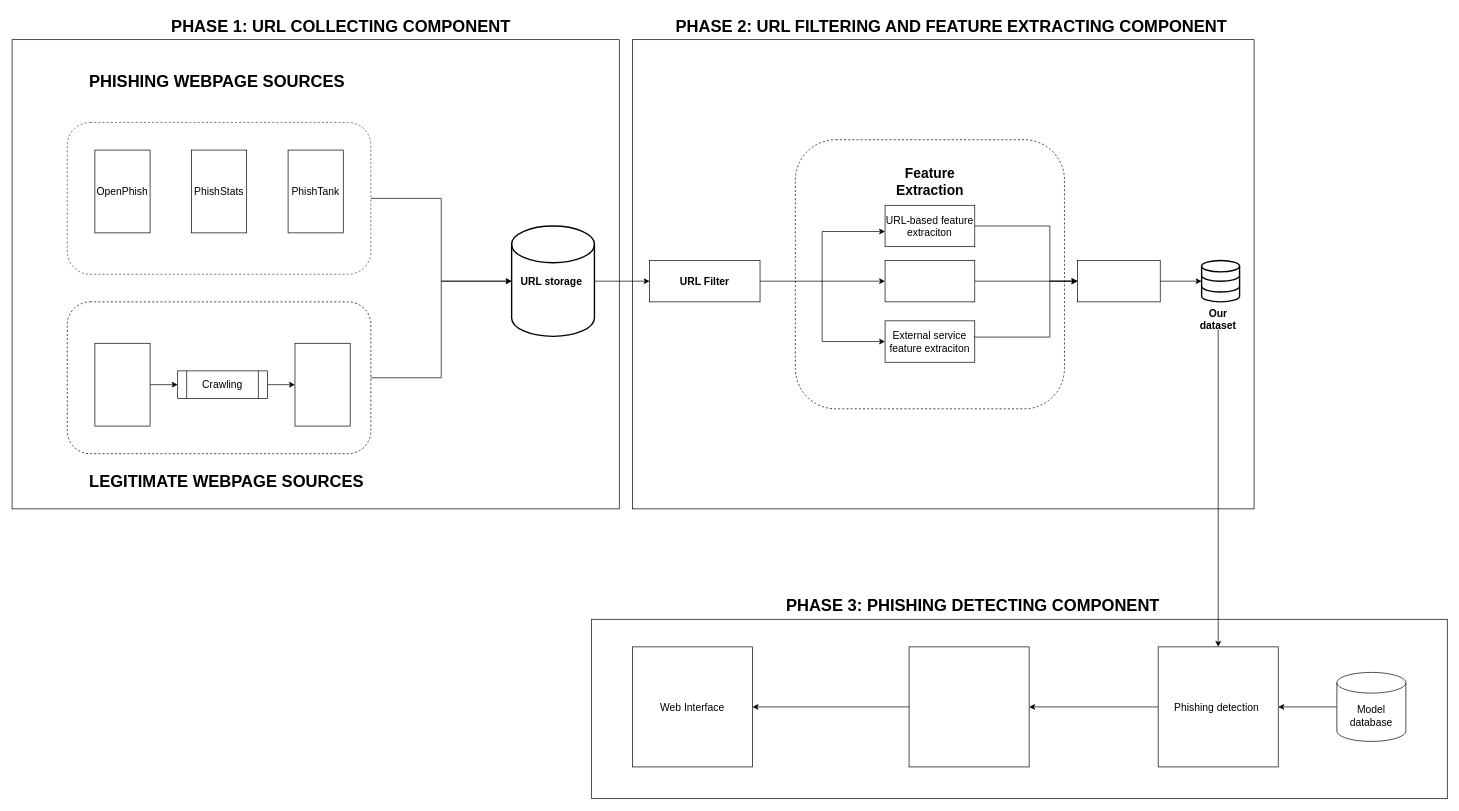
Some shapes in this 1459 by 811 pixel diagram are drawn without their labels. The centre of each missing label's shape, as x and y in pixels:
"Alexa (Domain)" goes at [122,384].
"Alexa (URL)" goes at [322,384].
"Content-based feature extraciton" goes at [929,281].
"Feature vector" goes at [1118,281].
"Result" goes at [968,706].
